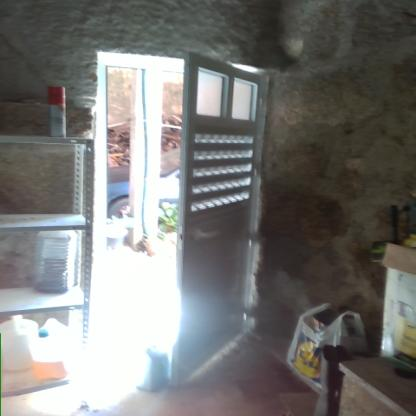semi: (74, 38, 290, 407)
